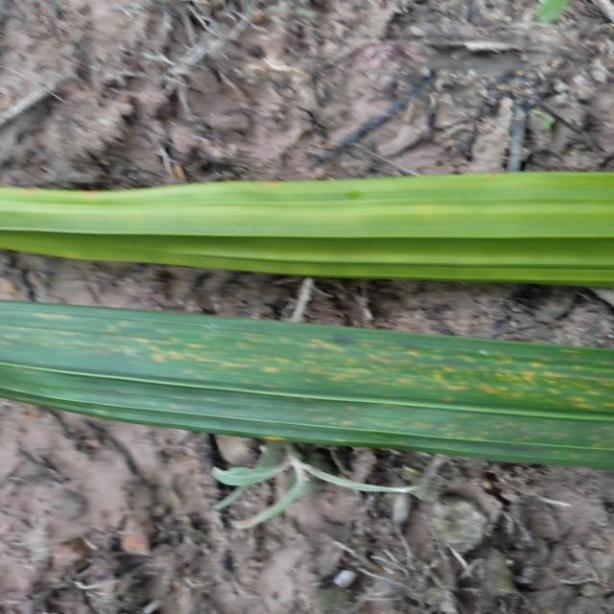nitrogen: (0, 299, 614, 460), (0, 163, 614, 291)
